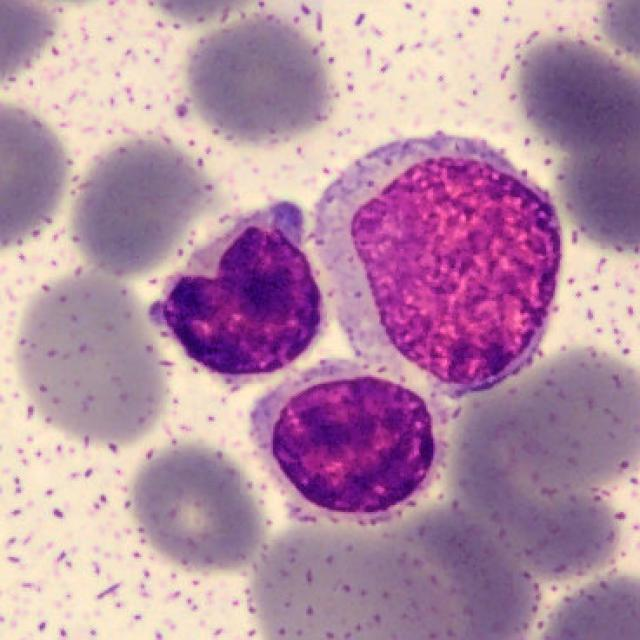Linfocito: (153, 208, 325, 379), (268, 370, 440, 524)
Mieloblasto: (304, 133, 562, 394)
